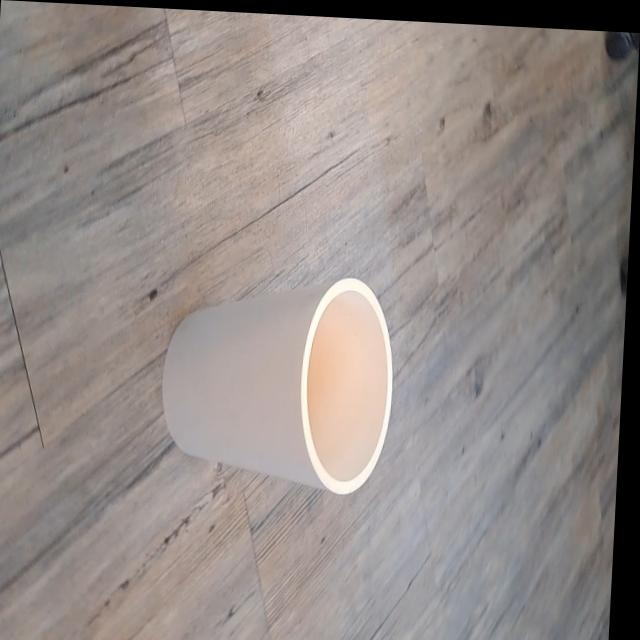CORAL: (137, 240, 406, 580)
